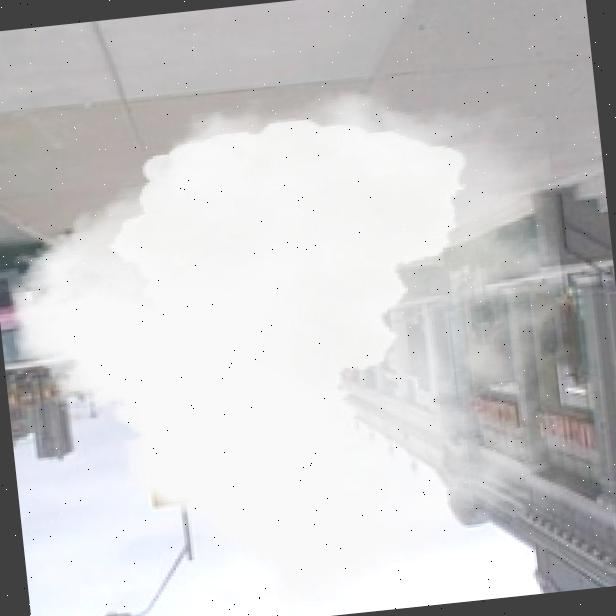smoke: (0, 69, 594, 616)
